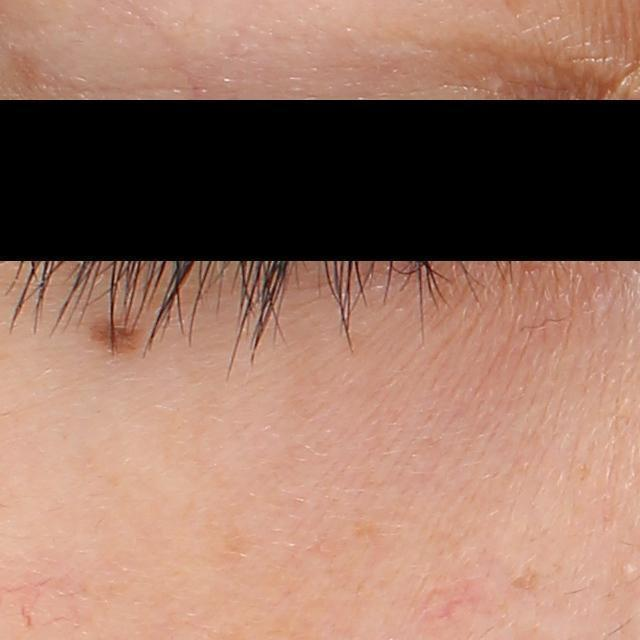comedo: (617, 560, 633, 575)
melasma: (511, 566, 544, 594)
nevus: (91, 314, 142, 349)
